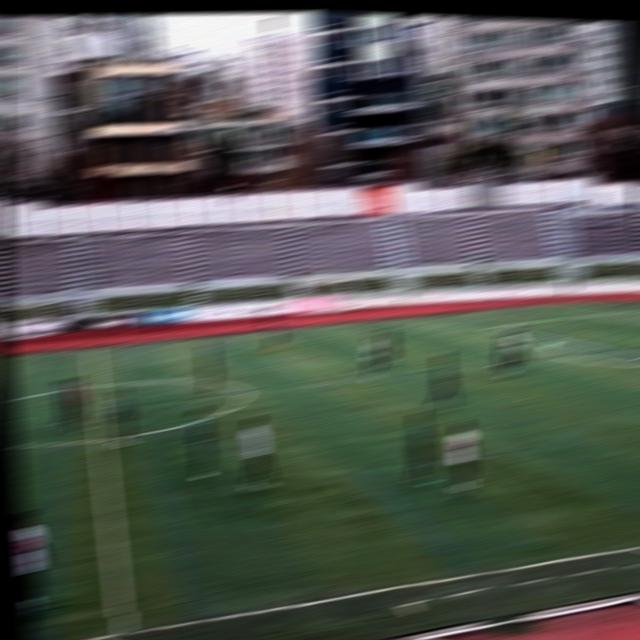bigarea_top_inner: (479, 320, 497, 336)
bigarea_top_outter: (625, 303, 640, 316)
corner: (559, 298, 578, 308)
halfcircle_bottom: (90, 431, 111, 450)
halfcircle_top: (85, 375, 108, 396)
midline_bottom_intersection: (110, 614, 136, 640)
midline_top_intersection: (83, 344, 101, 358)
top_arc_area_intersection: (543, 333, 563, 348)
